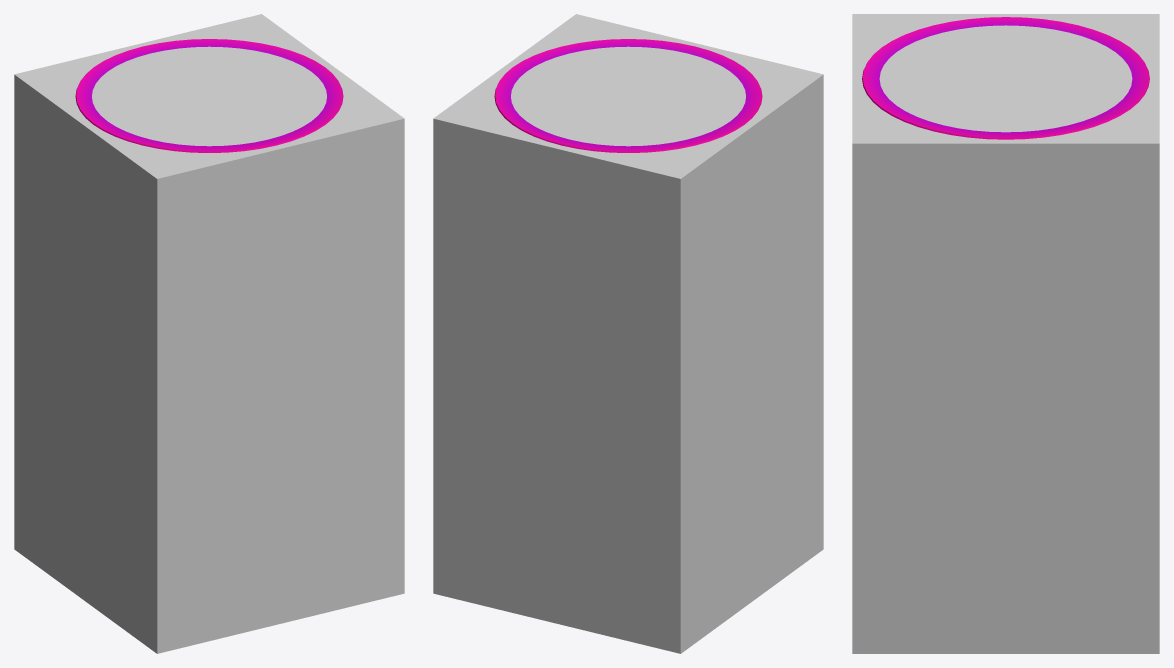
The model's file is prop_stool.fbx.
The picture shows the model from 3 angles, left to right: view 1: azimuth 30°, elevation 25°; view 2: azimuth 150°, elevation 25°; view 3: azimuth 270°, elevation 25°; orthographic projection. The views are drawn at different scales.
Visible parts, largest first — view 1: COL_0, prop_stool; view 2: COL_0, prop_stool; view 3: COL_0, prop_stool.
Boxes of the visible parts, left/top/right/bottom form: COL_0: left=14, top=14, right=404, bottom=653; prop_stool: left=75, top=39, right=343, bottom=152; COL_0: left=433, top=14, right=823, bottom=653; prop_stool: left=494, top=39, right=762, bottom=152; COL_0: left=852, top=14, right=1159, bottom=653; prop_stool: left=862, top=17, right=1149, bottom=139.
Bounding box in the file's own units: 0.36 × 0.6617 × 0.36.
